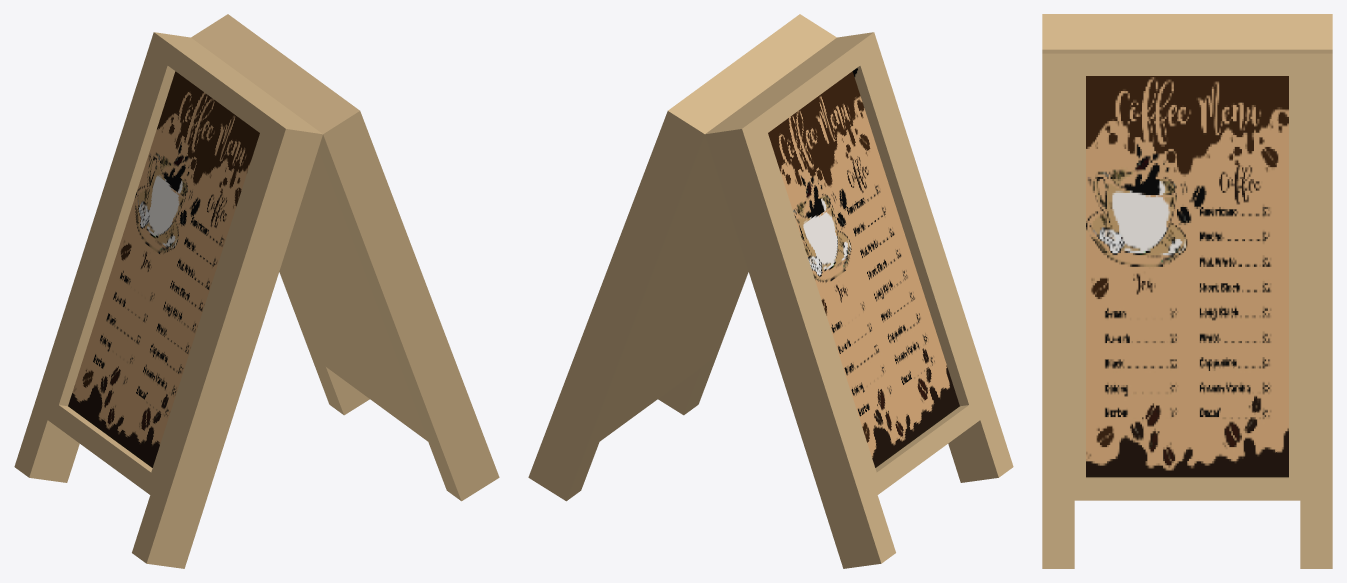
File: standee.fbx
The picture shows the model from 3 angles, left to right: view 1: azimuth 30°, elevation 25°; view 2: azimuth 150°, elevation 25°; view 3: azimuth 270°, elevation 25°; orthographic projection. The views are drawn at different scales.
Parts seen in each view (by area): view 1: mesh_Standee; view 2: mesh_Standee; view 3: mesh_Standee.
Part boxes in pixels (x1,y1,x2,y2): mesh_Standee: [14, 14, 499, 568]; mesh_Standee: [528, 14, 1013, 568]; mesh_Standee: [1042, 14, 1332, 568].
Size of the model in its own units: 0.2496 by 0.2806 by 0.1619.
Materials: 2 (2 with a texture image).
